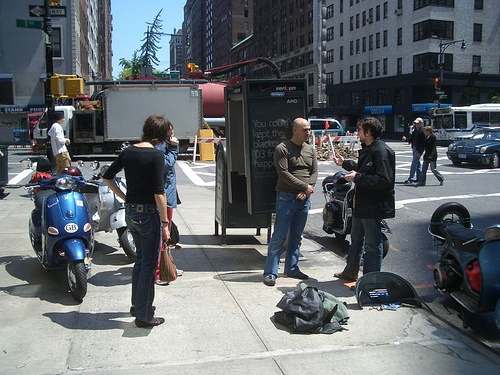non-vehicle: (22, 175, 100, 302), (323, 170, 393, 259), (93, 177, 139, 258)
